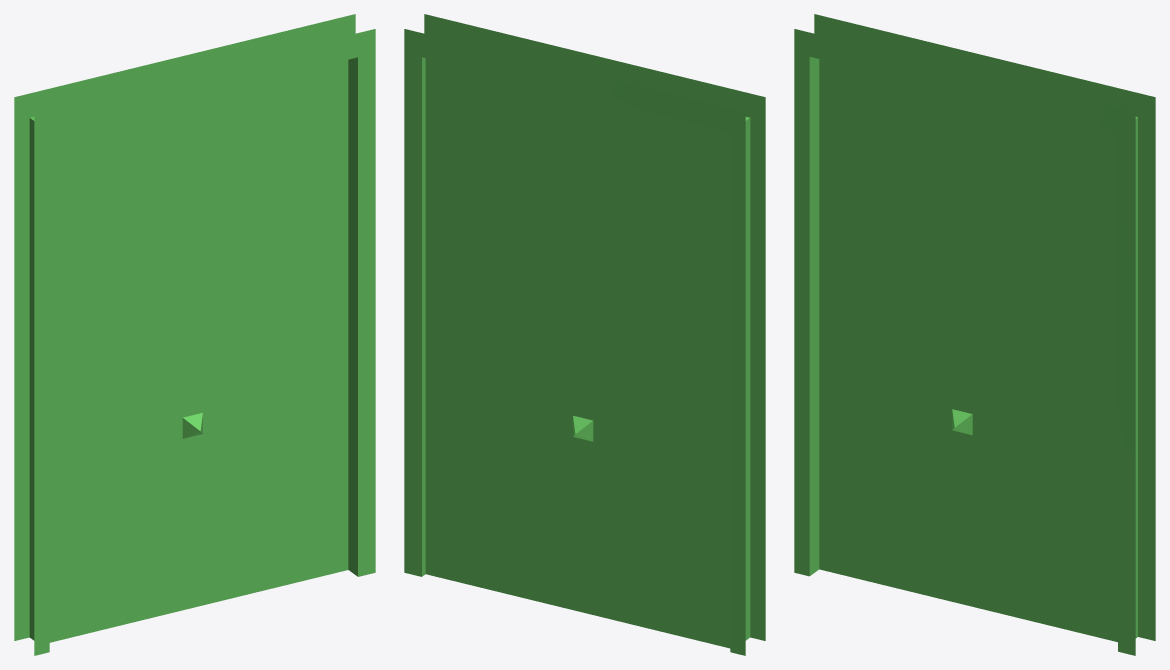
Rendered from Gen_Door_B_Closed.fbx.
3 views of the same model, side by side, from view 1: azimuth 30°, elevation 25°; view 2: azimuth 150°, elevation 25°; view 3: azimuth 330°, elevation 25° (orthographic).
Visible parts, largest first — view 1: Gen_Door_B_Closed; view 2: Gen_Door_B_Closed; view 3: Gen_Door_B_Closed.
Boxes of the visible parts, <box> form: Gen_Door_B_Closed: <box>14,14,375,655</box>; Gen_Door_B_Closed: <box>404,14,765,655</box>; Gen_Door_B_Closed: <box>794,14,1155,655</box>.
Size of the model in its own units: 220 by 335 by 33.3.
